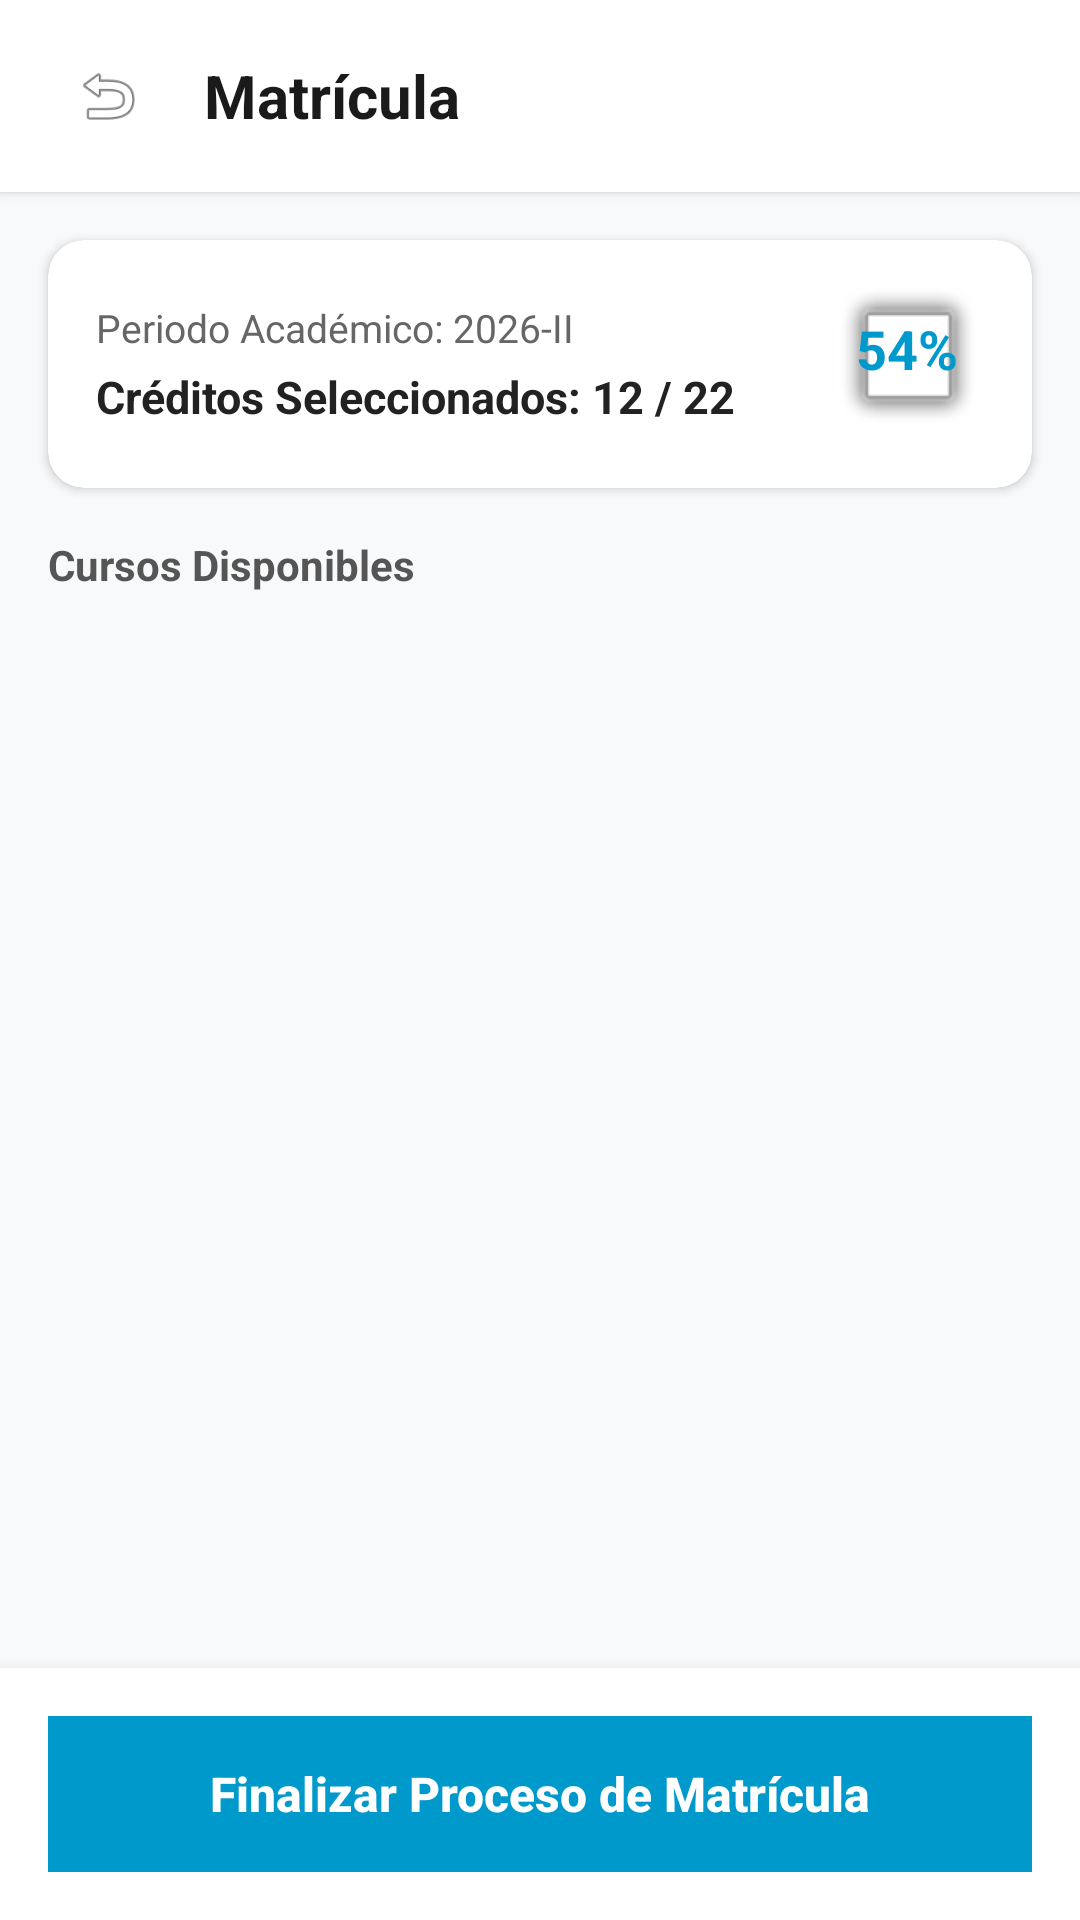

Icons on this 1080px×1920px Android screen, each with its box as (x1, y1, x2, y2):
Volver: (83, 73, 135, 120)
